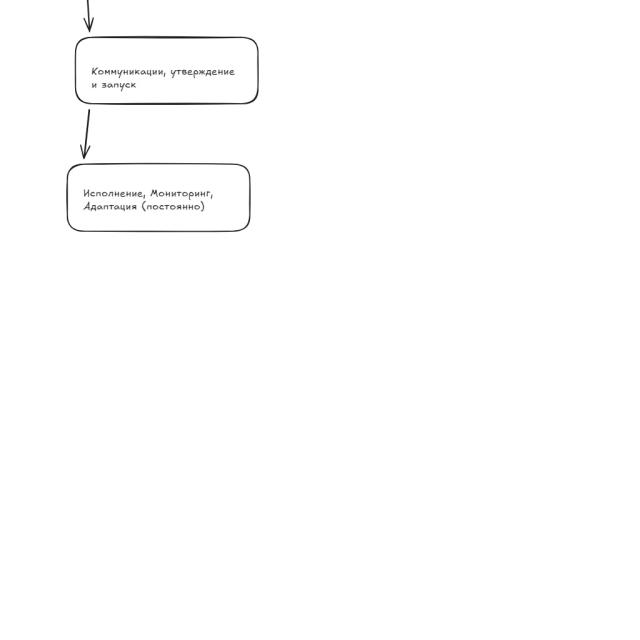arrow: (78, 108, 95, 158)
rectangle: (66, 162, 252, 233), (74, 36, 260, 105)
